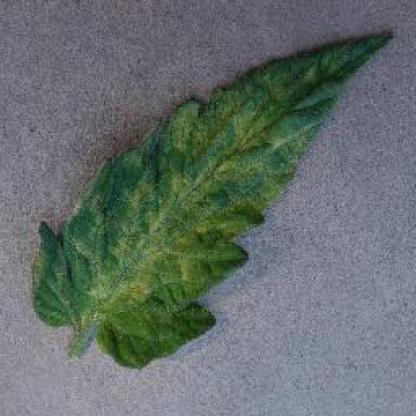Tomato_Leaf_Mold: (34, 30, 392, 369)
